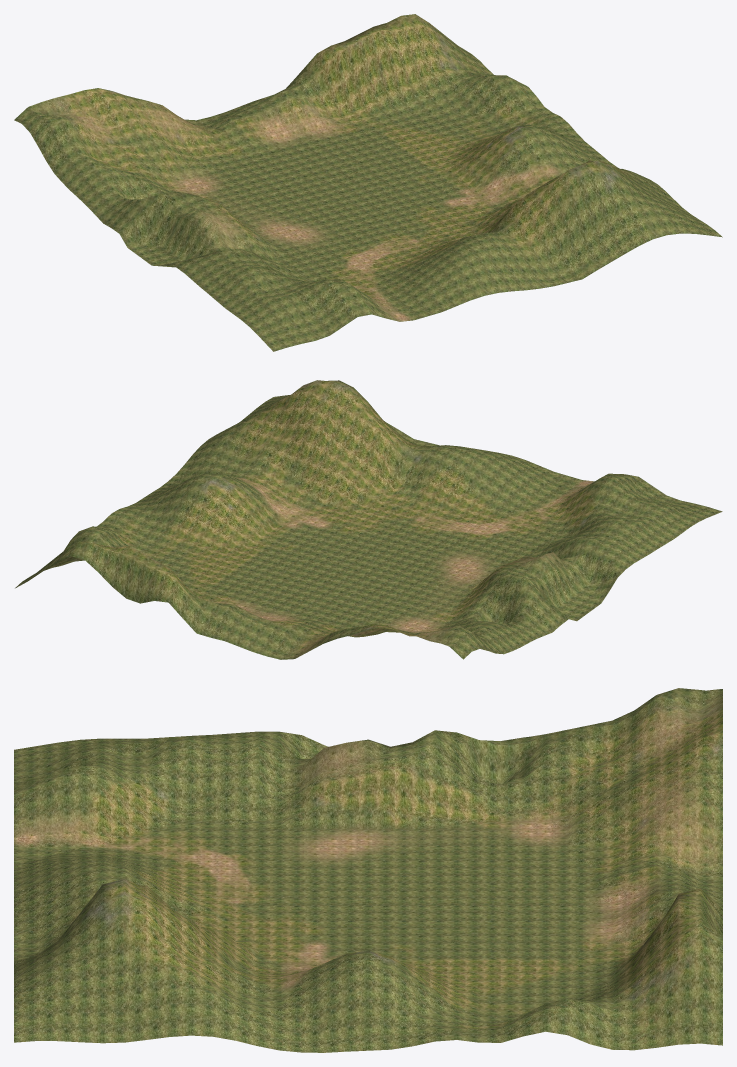
3 views of the same model, one above another, from view 1: azimuth 30°, elevation 25°; view 2: azimuth 150°, elevation 25°; view 3: azimuth 270°, elevation 25° (orthographic). The views are drawn at different scales.
Parts seen in each view (by area): view 1: Mesh; view 2: Mesh; view 3: Mesh.
Part boxes in pixels (bbox=[...]): Mesh: bbox=[14, 14, 722, 351]; Mesh: bbox=[15, 380, 722, 659]; Mesh: bbox=[14, 688, 722, 1052].
Size of the model in its own units: 1000 by 161 by 1000.
Materials: 1 (1 with a texture image).
